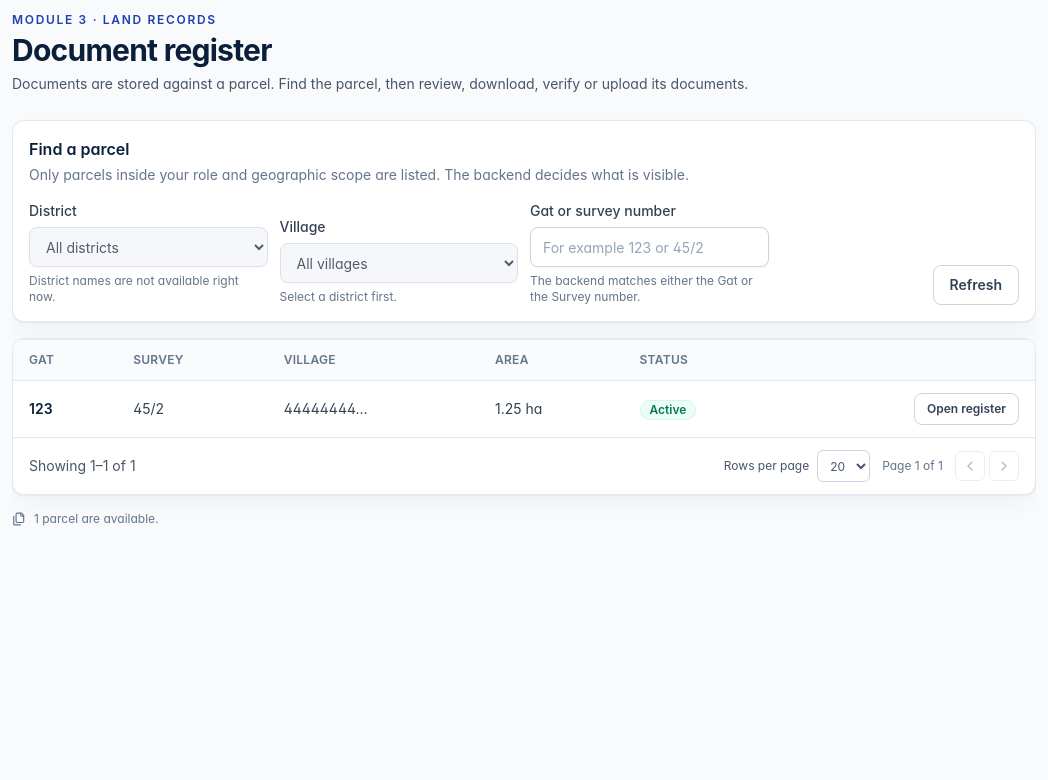
Scenario: DocumentRegisterPage › finds a parcel and opens its document register
Expected: the heading "Document register" is shown, left=12, top=32, right=272, bottom=68
Expected: the text "123" is shown, left=29, top=400, right=53, bottom=417
Click the button "Open register": (966,409) left=914, top=393, right=1019, bottom=425
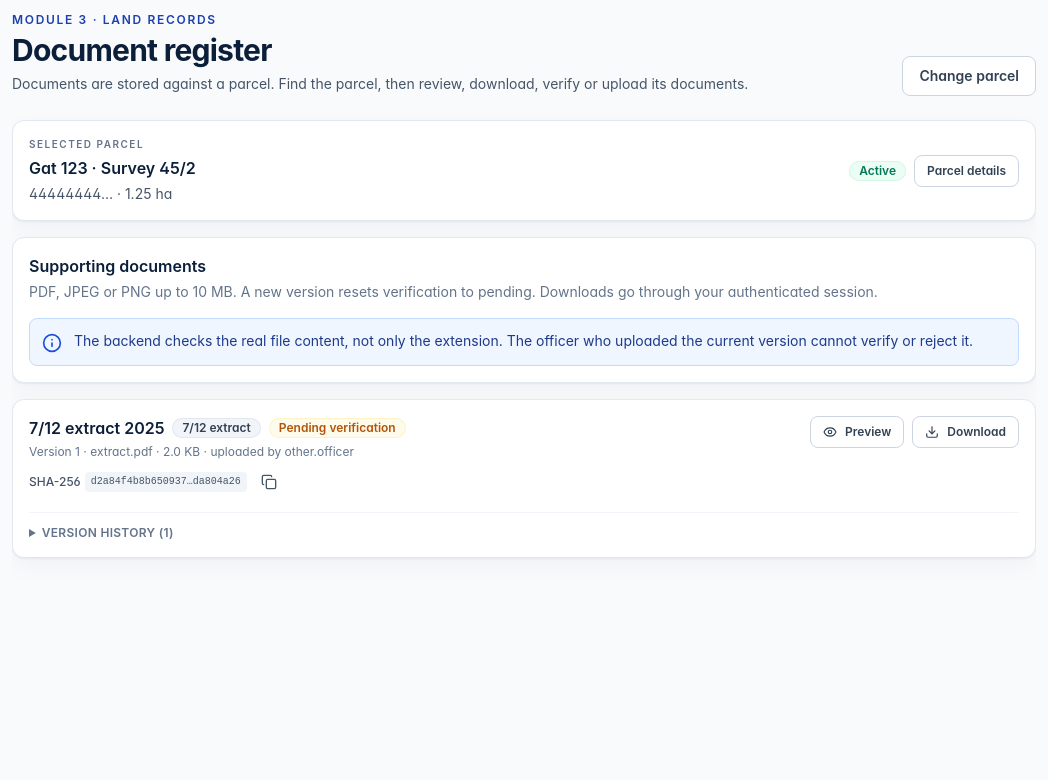
Now the text "Selected parcel" is shown, box left=29, top=138, right=144, bottom=150
Now the heading "7/12 extract 2025" is shown, box left=29, top=416, right=164, bottom=440
